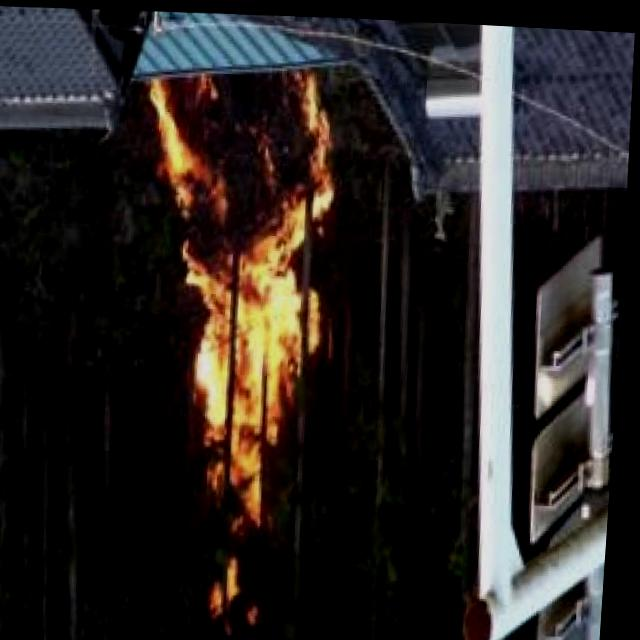helmet: (122, 61, 357, 522)
